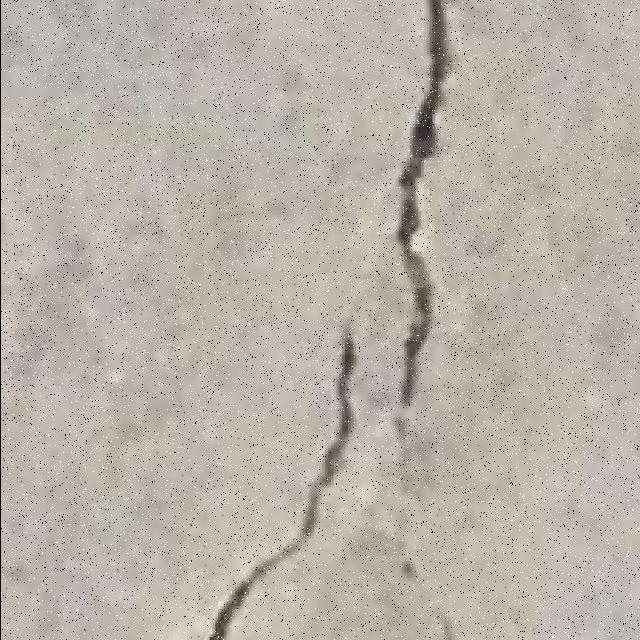Crack: (208, 0, 452, 638), (209, 328, 357, 638)
